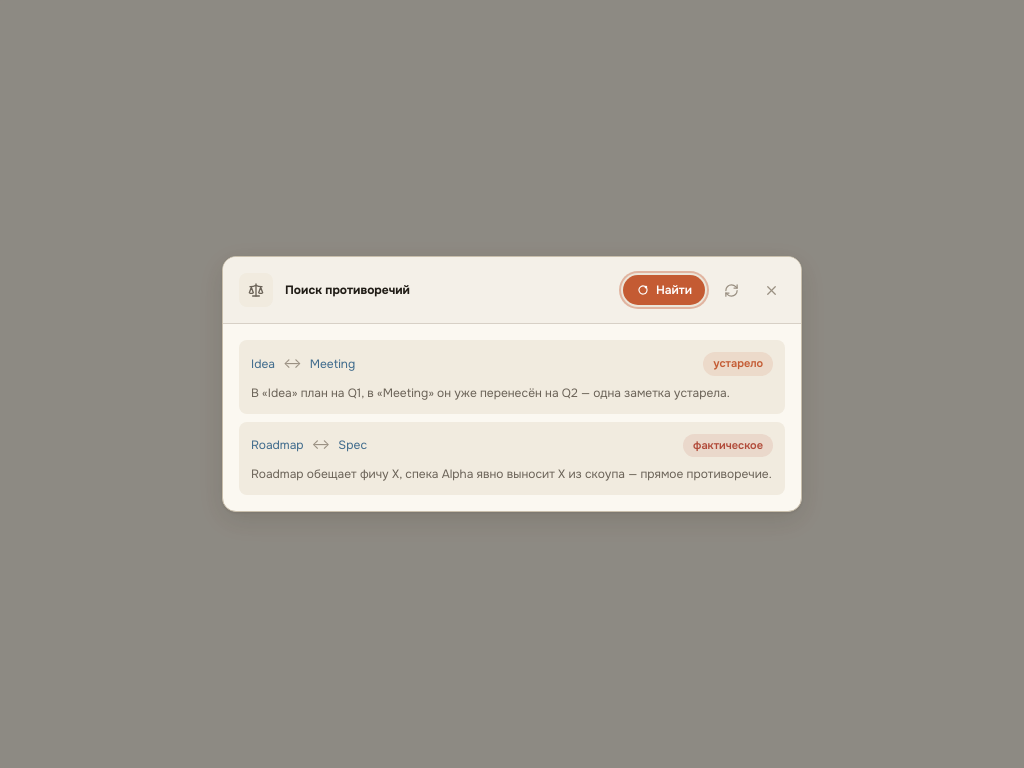
Scenario: ContradictionsPanel (#vision) › кнопка «Найти» ставит поиск и показывает прогресс
Expected: the text "одна заметка устарела" is shown, [251,384,730,400]
Click the button "Найти".
click(664, 290)  # box [623,276,705,306]
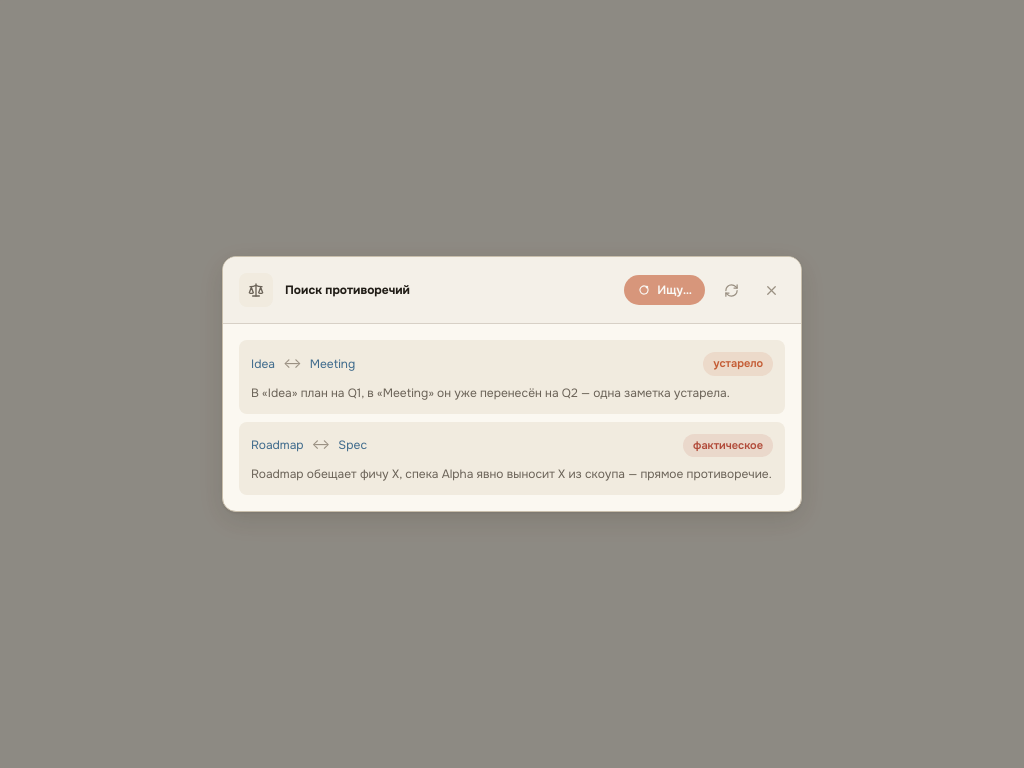
Expected: the text "Ищу…" is shown, [657,282,692,298]
